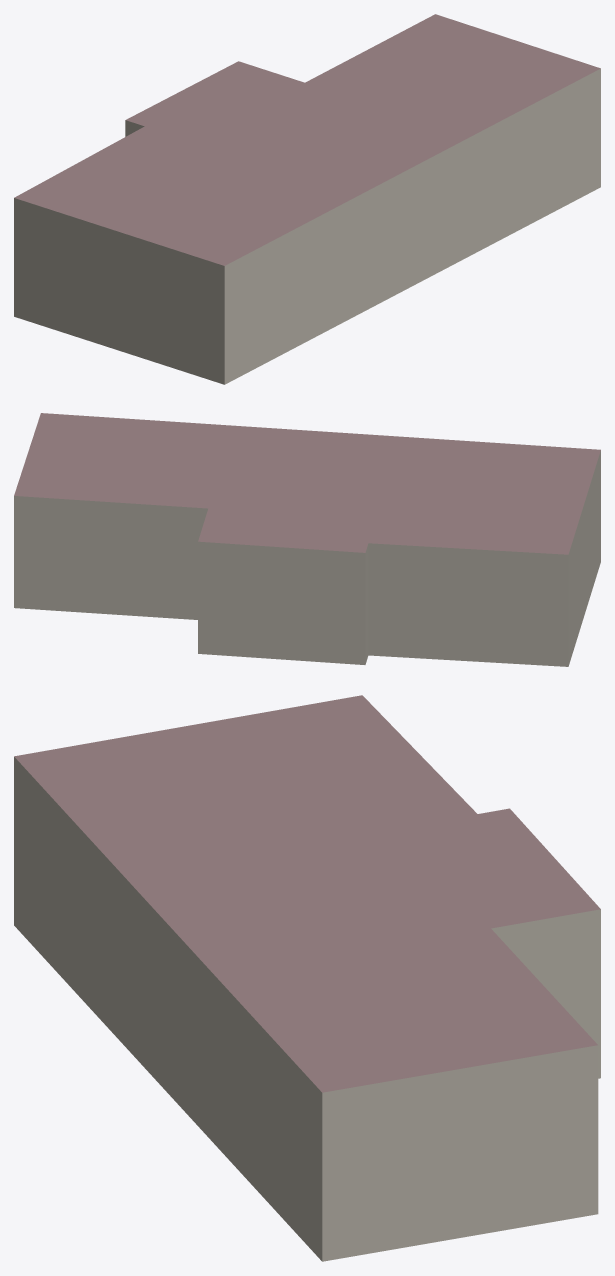
The picture shows the model from 3 angles, top to bottom: view 1: azimuth 30°, elevation 25°; view 2: azimuth 150°, elevation 25°; view 3: azimuth 270°, elevation 25°; orthographic projection. The views are drawn at different scales.
Parts seen in each view (by area): view 1: tuile; view 2: tuile; view 3: tuile.
Boxes of the visible parts, box(x1,y1,x2,y2) form: tuile: box(14, 14, 600, 384); tuile: box(14, 413, 600, 666); tuile: box(14, 695, 600, 1261).
Bounding box in the file's own units: 35.1 × 6.96 × 21.9.
